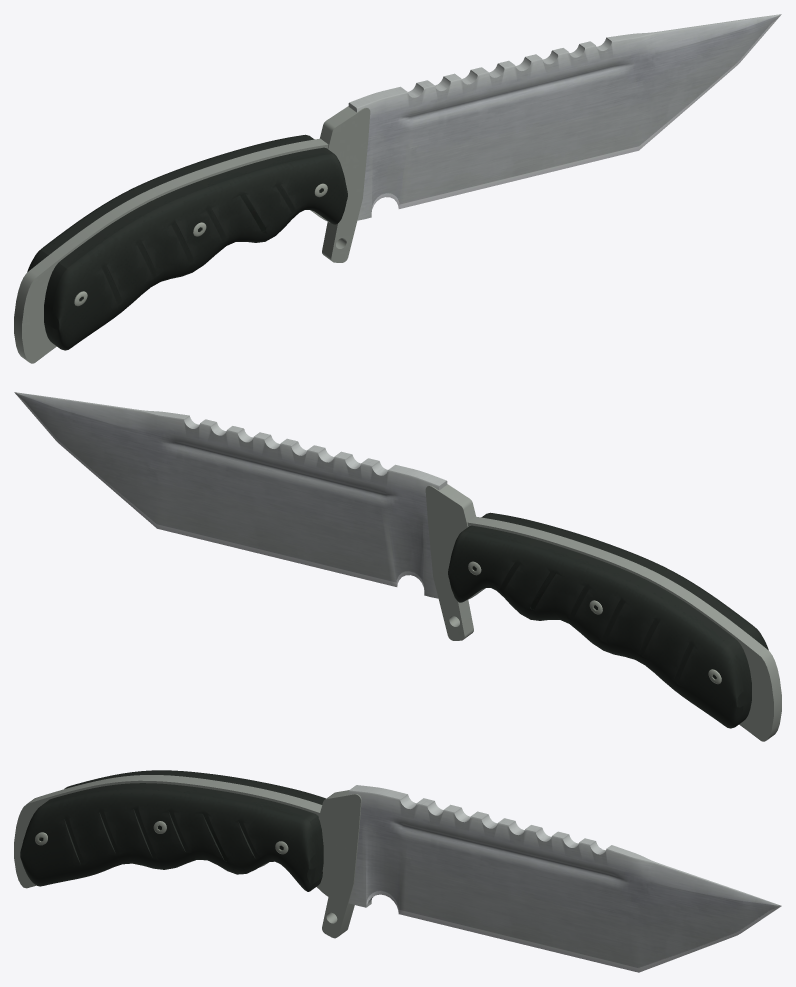
The model's file is huntsman.glb.
3 views of the same model, one above another, from view 1: azimuth 30°, elevation 25°; view 2: azimuth 150°, elevation 25°; view 3: azimuth 330°, elevation 25° (orthographic).
Visible parts, largest first — view 1: body; view 2: body; view 3: body.
Boxes of the visible parts, x1=… form: body: x1=14, y1=14, x2=781, y2=363; body: x1=14, y1=392, x2=781, y2=741; body: x1=14, y1=770, x2=781, y2=972.
Size of the model in its own units: 0.283 by 0.0637 by 0.026.
Materials: 5 (5 with a texture image).
